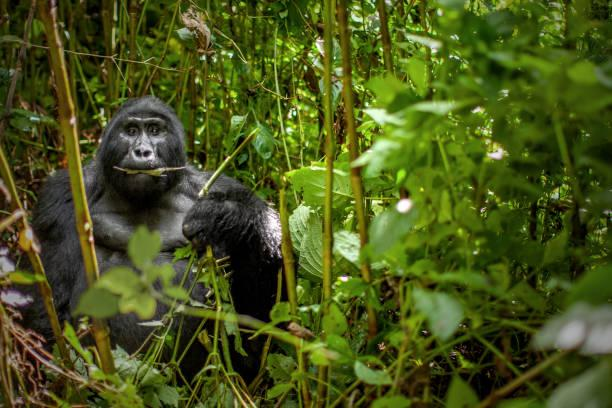goriile_montagne: (42, 97, 290, 386)
